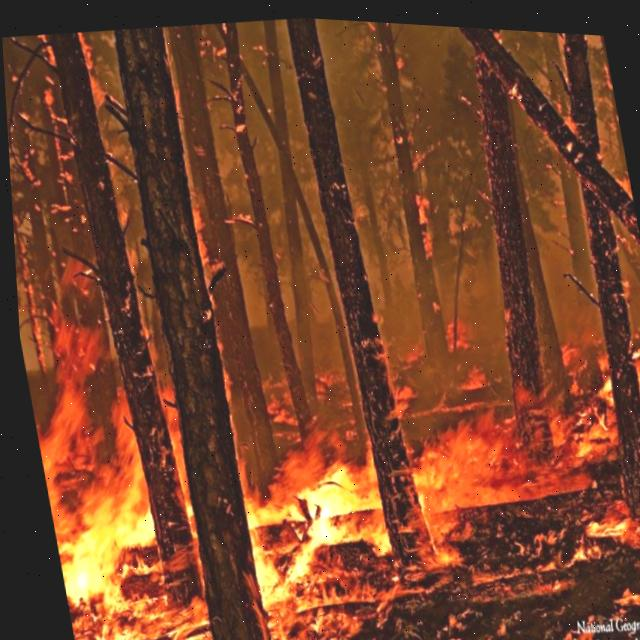fire: (18, 307, 640, 640)
smoke: (167, 14, 640, 322)
